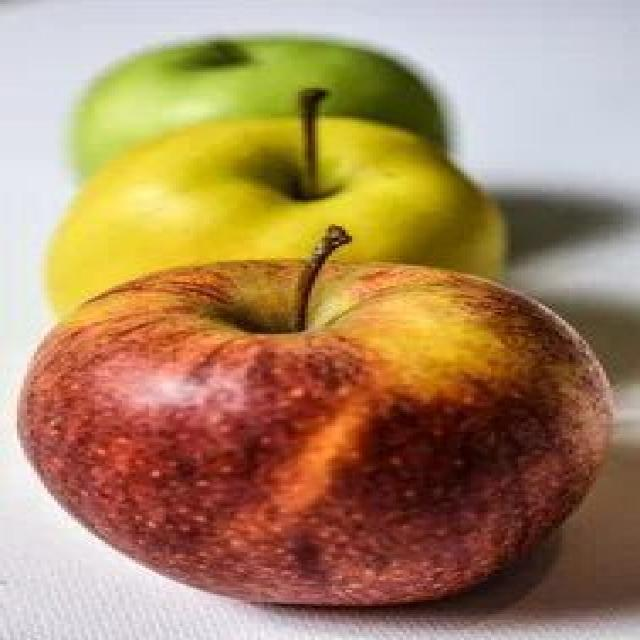Rotten: (2, 258, 618, 614)
